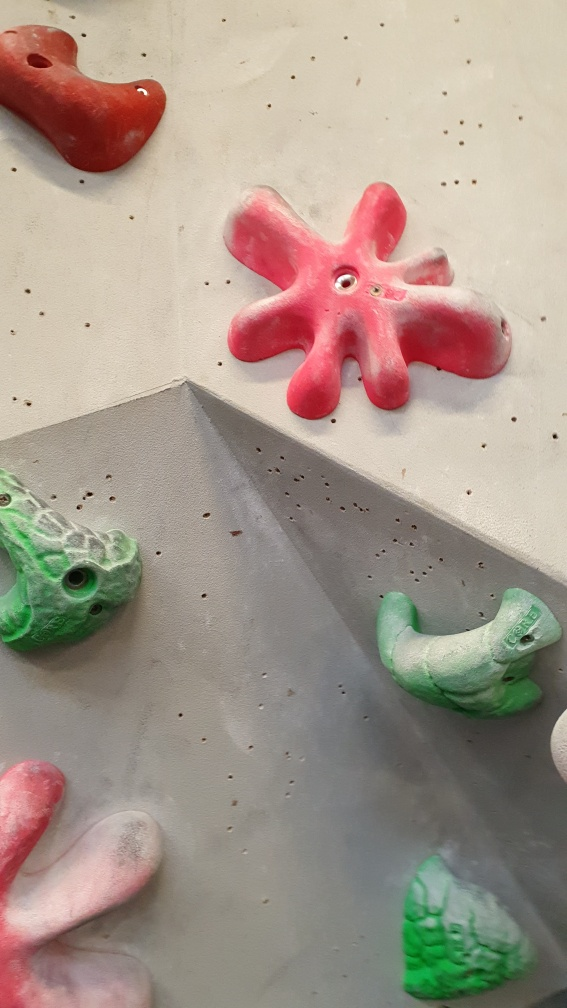Jug: (370, 578, 557, 721), (397, 849, 542, 1000)
Octopus Pinch: (223, 172, 515, 431), (1, 753, 175, 1004)
